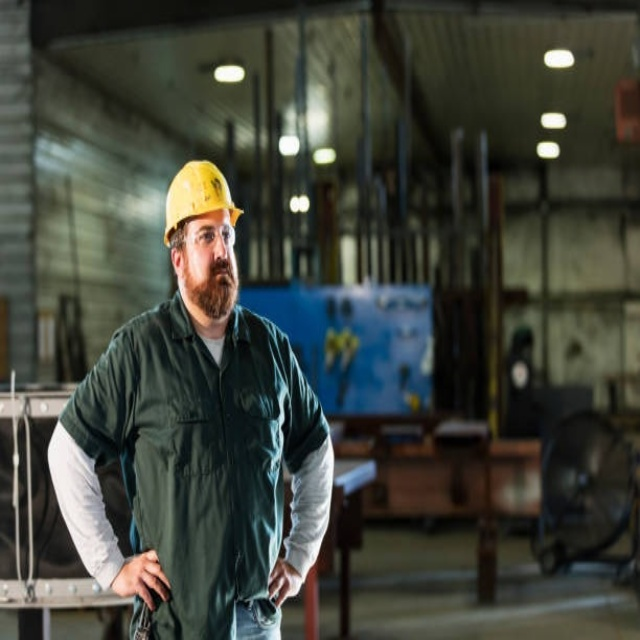Gafas: (175, 223, 237, 251)
Sin_guantes: (118, 547, 176, 610), (266, 558, 300, 607)
Sin_mascara: (205, 260, 234, 296)
